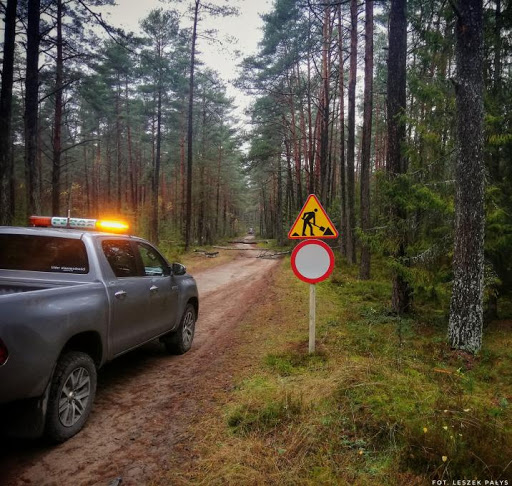no_entry_sign: (289, 238, 335, 283)
